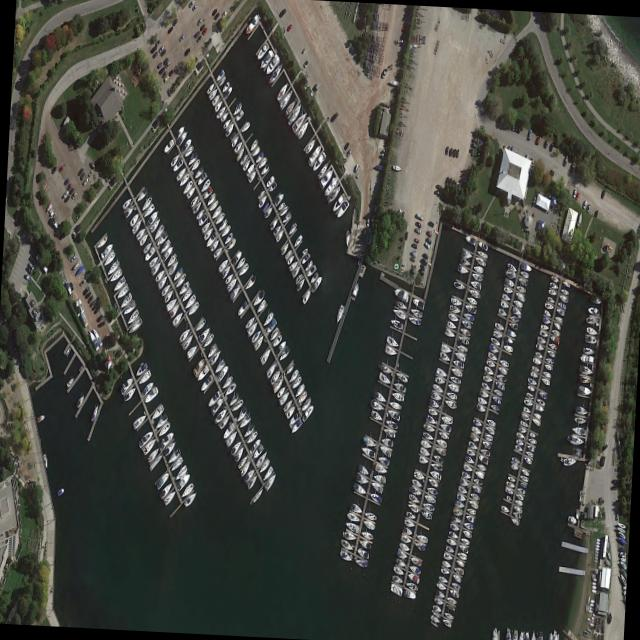ship: (291, 109, 308, 135), (137, 427, 155, 450), (331, 190, 348, 213), (245, 12, 261, 36), (265, 53, 281, 77), (287, 102, 303, 126), (311, 149, 327, 173), (279, 86, 294, 111), (259, 47, 275, 70), (323, 174, 339, 197), (318, 167, 334, 190), (127, 316, 144, 337), (142, 435, 158, 457), (269, 61, 284, 84), (275, 79, 290, 102), (307, 143, 322, 166), (207, 387, 223, 408), (315, 159, 330, 181), (145, 206, 160, 228), (144, 384, 160, 404), (176, 470, 191, 491), (200, 371, 215, 392), (337, 198, 351, 220), (296, 119, 310, 141), (180, 479, 195, 499), (159, 479, 174, 499), (256, 40, 271, 60), (222, 420, 237, 440), (112, 274, 127, 294), (119, 375, 134, 395), (106, 257, 121, 277), (225, 427, 239, 448), (156, 469, 170, 490), (210, 395, 224, 416), (193, 355, 207, 376), (216, 362, 230, 383), (301, 402, 315, 423), (259, 346, 273, 367), (334, 302, 346, 326), (327, 183, 342, 202), (115, 282, 130, 301), (126, 307, 141, 326), (99, 240, 114, 259), (147, 444, 161, 464), (196, 363, 210, 383), (252, 288, 266, 308), (103, 248, 117, 268), (163, 438, 178, 456), (122, 299, 137, 317), (137, 368, 152, 386), (149, 452, 163, 471), (183, 490, 197, 509), (175, 463, 189, 482), (167, 446, 181, 465), (160, 429, 174, 448), (303, 137, 317, 156), (187, 298, 201, 317), (213, 406, 227, 425), (290, 417, 304, 436), (155, 411, 169, 430), (141, 378, 155, 397), (119, 290, 133, 309), (123, 384, 137, 403), (132, 411, 146, 430), (92, 325, 104, 347), (264, 471, 277, 491), (255, 448, 268, 468), (182, 330, 195, 350), (278, 343, 291, 363), (265, 316, 278, 336), (395, 286, 411, 302), (389, 315, 405, 331), (352, 480, 368, 496), (373, 388, 388, 405), (89, 329, 100, 352), (240, 458, 252, 479), (170, 455, 184, 473), (157, 420, 171, 438), (283, 99, 297, 117), (213, 357, 227, 375), (151, 403, 165, 421), (184, 292, 198, 310), (221, 372, 235, 390), (218, 412, 232, 430), (274, 338, 288, 356), (247, 317, 259, 338), (135, 360, 149, 378), (310, 273, 323, 292), (252, 442, 265, 461), (249, 435, 262, 454), (246, 472, 259, 491), (198, 324, 211, 343), (287, 366, 300, 385), (135, 184, 148, 203), (389, 581, 404, 597), (236, 404, 248, 424), (253, 332, 265, 352), (386, 332, 400, 349), (242, 466, 256, 483), (163, 488, 177, 505), (143, 245, 157, 262), (203, 331, 216, 349), (209, 348, 222, 366), (231, 248, 244, 266), (174, 271, 187, 289), (178, 278, 191, 296), (181, 286, 194, 304), (205, 230, 218, 248), (239, 411, 252, 429), (243, 420, 256, 438), (262, 309, 275, 327), (156, 229, 169, 247), (233, 444, 245, 463), (237, 298, 249, 317), (169, 301, 181, 320), (272, 375, 284, 394), (265, 361, 277, 380), (153, 222, 165, 241), (162, 243, 174, 262), (392, 305, 407, 320), (346, 509, 361, 524), (567, 433, 583, 447), (340, 536, 354, 552), (185, 341, 199, 357), (229, 438, 242, 455), (217, 256, 230, 273), (245, 273, 258, 290), (171, 310, 184, 327), (178, 326, 191, 343), (225, 380, 238, 397), (271, 332, 284, 349), (180, 136, 193, 153), (211, 203, 224, 220), (214, 209, 227, 226), (110, 266, 123, 283), (350, 281, 361, 301), (429, 610, 441, 628), (295, 275, 307, 293), (157, 273, 169, 291), (168, 258, 180, 276), (278, 389, 290, 407), (200, 176, 212, 194), (177, 128, 189, 146), (141, 194, 153, 212), (131, 217, 143, 235), (412, 295, 426, 310), (362, 434, 377, 448), (357, 461, 371, 476), (256, 296, 267, 315), (361, 444, 377, 457), (165, 295, 178, 311), (134, 225, 147, 241), (143, 202, 156, 218), (262, 464, 274, 481), (259, 457, 271, 474), (206, 341, 218, 358), (226, 276, 238, 293), (235, 254, 247, 271), (154, 267, 166, 284), (294, 381, 306, 398), (250, 327, 262, 344), (191, 198, 203, 215), (182, 178, 194, 195), (187, 149, 199, 166), (224, 120, 236, 137), (149, 216, 161, 233), (150, 259, 162, 276), (160, 237, 172, 254), (128, 211, 140, 228), (221, 262, 232, 280), (173, 264, 184, 282), (270, 368, 281, 386), (410, 305, 424, 319), (387, 407, 401, 421), (370, 408, 384, 422), (385, 417, 399, 431), (378, 371, 392, 385), (450, 365, 464, 379), (468, 286, 482, 300), (339, 549, 353, 563), (424, 411, 437, 426), (370, 399, 385, 412), (355, 472, 370, 485), (345, 519, 360, 532), (342, 529, 357, 542), (178, 171, 191, 186), (579, 352, 595, 364), (246, 429, 258, 445), (253, 487, 265, 503), (236, 453, 248, 469), (257, 154, 269, 170), (195, 317, 207, 333), (223, 270, 235, 286), (238, 261, 250, 277), (160, 281, 172, 297), (288, 411, 300, 427), (291, 374, 303, 390), (185, 184, 197, 200), (196, 170, 208, 186), (176, 165, 188, 181), (163, 137, 175, 153), (197, 211, 209, 227), (138, 231, 150, 247), (148, 253, 160, 269), (90, 403, 100, 422), (269, 214, 280, 231), (229, 284, 240, 301), (167, 251, 178, 268), (286, 403, 297, 420), (301, 396, 312, 413), (269, 324, 280, 341), (206, 190, 217, 207), (174, 123, 185, 140), (203, 224, 214, 241), (124, 201, 135, 218), (587, 304, 601, 317), (459, 254, 472, 268), (392, 389, 405, 403), (394, 379, 407, 393), (396, 369, 409, 383), (444, 397, 458, 410), (445, 388, 459, 401), (363, 517, 376, 531), (350, 500, 363, 514), (370, 489, 383, 503), (371, 479, 384, 493), (380, 443, 393, 457), (374, 462, 388, 475), (409, 562, 422, 576), (232, 397, 245, 411), (579, 363, 594, 375), (577, 383, 592, 395), (302, 287, 312, 305), (121, 195, 133, 210), (97, 234, 109, 249), (263, 204, 274, 220), (258, 192, 269, 208), (282, 208, 293, 224), (287, 220, 298, 236), (297, 388, 308, 404), (229, 390, 240, 406), (244, 314, 255, 330), (203, 184, 214, 200), (169, 152, 180, 168), (223, 230, 234, 246), (218, 216, 229, 232), (74, 393, 85, 409), (235, 145, 245, 162), (575, 403, 588, 416), (435, 365, 448, 378), (384, 426, 397, 439), (447, 380, 460, 393), (455, 349, 468, 362), (465, 301, 478, 314), (357, 546, 370, 559), (408, 492, 421, 505), (424, 492, 437, 505), (407, 571, 420, 584), (408, 314, 422, 326), (379, 362, 393, 374), (384, 344, 398, 356), (505, 267, 517, 281), (475, 254, 487, 268), (364, 509, 378, 521), (377, 453, 391, 465), (430, 459, 444, 471), (240, 119, 252, 133), (358, 537, 373, 548), (274, 191, 285, 206), (163, 288, 174, 303), (212, 244, 223, 259), (209, 237, 220, 252), (189, 192, 200, 207), (184, 143, 195, 158), (173, 157, 184, 172), (215, 104, 226, 119), (208, 86, 219, 101), (221, 223, 232, 238), (142, 239, 153, 254), (247, 168, 257, 184), (242, 156, 252, 172), (249, 136, 259, 152), (275, 227, 285, 243), (283, 397, 293, 413), (285, 360, 295, 376), (291, 263, 301, 279), (191, 156, 201, 172), (432, 381, 444, 394), (443, 326, 456, 338), (447, 311, 460, 323), (453, 279, 466, 291), (389, 398, 402, 410), (439, 420, 452, 432), (483, 363, 495, 376), (449, 373, 462, 385), (461, 317, 473, 330), (361, 528, 374, 540), (355, 555, 368, 567), (398, 540, 411, 552), (392, 564, 405, 576), (406, 580, 419, 592), (429, 468, 442, 480), (428, 475, 440, 488), (465, 233, 477, 246), (306, 263, 317, 277), (265, 174, 276, 188), (260, 161, 271, 175), (279, 203, 290, 217), (293, 233, 304, 247), (298, 246, 309, 260), (195, 206, 206, 220), (209, 198, 220, 212), (245, 162, 255, 177), (255, 149, 265, 164), (233, 139, 243, 154), (276, 384, 286, 399), (280, 240, 290, 255), (233, 100, 243, 115), (206, 80, 216, 95), (201, 219, 211, 234), (422, 429, 434, 441), (428, 397, 440, 409), (439, 350, 451, 362), (440, 342, 452, 354), (446, 317, 458, 329), (451, 295, 463, 307), (504, 275, 516, 287), (457, 341, 469, 353), (459, 333, 471, 345), (460, 325, 472, 337), (463, 310, 475, 322), (466, 294, 478, 306), (472, 270, 484, 282), (411, 477, 423, 489), (401, 525, 413, 537), (395, 556, 407, 568), (419, 445, 431, 457), (471, 482, 483, 494), (478, 453, 490, 465), (436, 436, 448, 448), (435, 444, 447, 456), (433, 452, 445, 464), (421, 508, 433, 520), (80, 310, 89, 326), (441, 414, 454, 425), (470, 278, 483, 289), (420, 439, 433, 450), (410, 485, 423, 496), (407, 501, 420, 512), (403, 517, 416, 528), (426, 484, 439, 495), (414, 540, 427, 551), (410, 555, 423, 566), (272, 223, 283, 236), (287, 259, 298, 272), (221, 116, 232, 129), (585, 325, 599, 335), (579, 373, 593, 383), (422, 422, 436, 432), (403, 589, 417, 599), (252, 144, 262, 158), (239, 152, 249, 166), (304, 258, 314, 272), (227, 237, 237, 251), (301, 251, 311, 265), (294, 271, 304, 285), (194, 165, 204, 179), (235, 108, 245, 122), (211, 92, 221, 106), (221, 79, 231, 93), (215, 68, 225, 82), (50, 214, 59, 229), (231, 133, 240, 148), (505, 327, 517, 338), (513, 297, 524, 309), (515, 290, 526, 302), (518, 275, 529, 287), (591, 293, 603, 304), (430, 390, 442, 401), (434, 374, 446, 385), (396, 299, 408, 310), (475, 402, 487, 413), (507, 261, 518, 273), (453, 357, 465, 368), (567, 513, 578, 525), (392, 573, 404, 584), (468, 498, 479, 510), (462, 527, 473, 539), (500, 502, 511, 514), (417, 532, 429, 543), (449, 304, 462, 314), (460, 249, 473, 259), (374, 472, 387, 482), (382, 436, 395, 446), (423, 500, 436, 510), (268, 180, 278, 193), (219, 110, 229, 123), (65, 279, 73, 295), (563, 457, 577, 466), (573, 425, 587, 434), (310, 270, 319, 284), (224, 84, 233, 98), (214, 98, 223, 112), (527, 375, 538, 386), (495, 379, 506, 390), (499, 357, 510, 368), (492, 394, 503, 405), (485, 424, 496, 435), (490, 335, 501, 346), (485, 357, 496, 368), (494, 320, 505, 331), (501, 291, 512, 302), (471, 424, 482, 435), (480, 446, 491, 457), (470, 490, 481, 501), (460, 535, 471, 546), (459, 542, 470, 553), (457, 549, 468, 560), (455, 557, 466, 568), (449, 587, 460, 598), (442, 617, 453, 628), (467, 439, 478, 450), (464, 453, 475, 464), (457, 484, 468, 495), (478, 240, 489, 251), (525, 389, 535, 401), (496, 372, 508, 382), (503, 342, 515, 352), (512, 304, 522, 316), (585, 316, 600, 324), (487, 416, 497, 428), (457, 265, 469, 275), (438, 429, 450, 439), (481, 380, 491, 392), (488, 343, 500, 353), (476, 248, 488, 258), (473, 263, 485, 273), (413, 470, 425, 480), (405, 510, 417, 520), (435, 587, 445, 599), (445, 543, 455, 555), (286, 253, 296, 265), (78, 296, 85, 313), (400, 534, 413, 543), (262, 200, 271, 213), (582, 346, 596, 354), (584, 335, 598, 343), (573, 416, 587, 424), (549, 279, 559, 290), (532, 416, 542, 427), (498, 364, 508, 375), (504, 334, 514, 345), (516, 283, 527, 293), (536, 396, 547, 406), (538, 388, 548, 399), (542, 368, 552, 379), (548, 340, 559, 350), (550, 333, 560, 344), (559, 292, 569, 303), (477, 395, 488, 405), (479, 388, 490, 398), (482, 373, 493, 383), (488, 350, 498, 361), (492, 328, 503, 338), (499, 299, 510, 309), (472, 417, 483, 427), (469, 432, 480, 442), (397, 549, 408, 559), (482, 438, 492, 449), (477, 461, 488, 471), (475, 468, 486, 478), (473, 476, 484, 486), (465, 513, 476, 523), (464, 520, 475, 530), (523, 454, 533, 465), (513, 503, 523, 514), (510, 454, 521, 464), (505, 479, 516, 489), (454, 564, 465, 574), (452, 571, 462, 582), (451, 581, 462, 591), (436, 581, 447, 591), (466, 447, 477, 457), (462, 462, 473, 472), (459, 477, 470, 487), (454, 498, 465, 508), (448, 529, 459, 539), (446, 595, 458, 604), (257, 188, 266, 200), (66, 375, 75, 387), (345, 228, 351, 245), (577, 211, 583, 228), (75, 299, 81, 316), (523, 397, 533, 407), (521, 411, 531, 421), (547, 348, 557, 358), (551, 327, 561, 337), (554, 313, 564, 323), (556, 306, 566, 316), (557, 300, 567, 310), (560, 286, 570, 296), (498, 307, 508, 317), (515, 491, 525, 501), (514, 497, 524, 507), (446, 602, 456, 612), (444, 610, 454, 620), (461, 469, 471, 479), (538, 328, 549, 337), (521, 262, 532, 271), (619, 559, 628, 570), (428, 407, 439, 416), (56, 485, 65, 496), (521, 466, 530, 477), (438, 574, 449, 583), (277, 200, 286, 211), (284, 248, 293, 259), (76, 264, 85, 275), (73, 259, 82, 270), (620, 572, 627, 586), (43, 452, 49, 468), (442, 552, 454, 560), (512, 627, 519, 640), (219, 74, 226, 87), (535, 349, 544, 359), (537, 335, 547, 344), (547, 294, 556, 304), (548, 287, 558, 296), (550, 274, 560, 283), (523, 404, 532, 414), (491, 402, 501, 411), (510, 313, 519, 323), (494, 387, 504, 396), (509, 321, 519, 330), (618, 534, 627, 544), (616, 524, 626, 533), (541, 376, 551, 385), (553, 320, 562, 330), (467, 505, 477, 514), (511, 516, 520, 526), (442, 559, 452, 568), (392, 163, 402, 172), (532, 357, 543, 365), (544, 301, 555, 309), (503, 285, 514, 293), (431, 604, 442, 612), (456, 493, 467, 501), (450, 523, 461, 531), (446, 537, 457, 545), (229, 129, 237, 140), (506, 626, 512, 640), (65, 345, 72, 357), (618, 520, 627, 529), (544, 362, 553, 371), (562, 279, 571, 288), (485, 432, 494, 441), (527, 443, 536, 452), (519, 480, 528, 489), (528, 436, 538, 444), (520, 269, 530, 277), (513, 510, 523, 518), (517, 485, 527, 493), (510, 462, 520, 470), (507, 474, 517, 482), (505, 486, 515, 494), (434, 597, 444, 605), (440, 567, 450, 575), (453, 508, 463, 516), (451, 515, 461, 523), (552, 627, 558, 640), (418, 456, 429, 463), (46, 201, 53, 212), (527, 384, 536, 392), (544, 308, 552, 317), (520, 419, 529, 427), (533, 410, 542, 418), (535, 404, 544, 412), (618, 530, 627, 538), (545, 355, 554, 363), (575, 506, 581, 518), (36, 414, 45, 422), (526, 449, 535, 457), (520, 473, 529, 481), (515, 443, 523, 452), (535, 344, 545, 351), (493, 626, 498, 640), (540, 323, 549, 330), (530, 371, 539, 378), (531, 365, 540, 372), (516, 431, 525, 438), (518, 426, 527, 433), (515, 438, 524, 445), (390, 78, 399, 85), (542, 317, 552, 323), (538, 630, 544, 640), (529, 431, 537, 438), (605, 558, 612, 566), (506, 493, 513, 501), (519, 629, 524, 640), (531, 629, 536, 640), (607, 549, 612, 559), (525, 630, 530, 640), (620, 549, 627, 556), (621, 555, 627, 562), (579, 489, 582, 502), (49, 206, 54, 213), (50, 210, 55, 216), (587, 626, 592, 632), (587, 603, 590, 612), (589, 608, 594, 613), (589, 606, 595, 610), (587, 596, 590, 604), (607, 541, 610, 548), (596, 537, 601, 541), (590, 622, 595, 626), (586, 603, 588, 613), (592, 588, 597, 592), (594, 555, 599, 559), (594, 552, 599, 556), (590, 602, 594, 606), (596, 540, 600, 544), (596, 543, 600, 547), (590, 599, 595, 602), (592, 585, 597, 588), (592, 581, 597, 584), (593, 577, 598, 580), (594, 559, 599, 562), (595, 547, 600, 550), (595, 550, 599, 553)
small-vehicle: (29, 253, 37, 266), (330, 111, 338, 122), (381, 66, 388, 78), (82, 285, 90, 295), (25, 265, 33, 275), (279, 7, 287, 17), (563, 153, 569, 166), (84, 290, 92, 299), (425, 235, 433, 244), (64, 194, 71, 204), (87, 294, 94, 304), (28, 260, 35, 270), (184, 46, 191, 56), (80, 170, 87, 180), (417, 211, 424, 221), (194, 29, 201, 39), (426, 228, 433, 238), (424, 240, 431, 250), (570, 160, 576, 171), (70, 253, 77, 262), (172, 17, 179, 26), (167, 25, 174, 34), (155, 37, 162, 46), (63, 189, 69, 199), (97, 313, 103, 323), (78, 166, 84, 176), (153, 48, 159, 58), (549, 142, 555, 152), (344, 140, 350, 150), (346, 147, 352, 157), (419, 266, 425, 276), (428, 219, 435, 227), (421, 257, 428, 265), (412, 241, 419, 249), (416, 220, 423, 228), (544, 138, 549, 149), (524, 153, 529, 164), (573, 187, 578, 198), (601, 188, 606, 199), (71, 190, 77, 199), (94, 305, 100, 314), (67, 181, 73, 190), (212, 7, 218, 16), (168, 67, 174, 76), (160, 47, 166, 56), (163, 56, 169, 65), (159, 65, 165, 74), (83, 176, 89, 185), (52, 165, 58, 174), (214, 11, 220, 20), (304, 59, 310, 68), (202, 26, 208, 35), (200, 22, 206, 31), (197, 16, 203, 25), (165, 59, 171, 68), (420, 262, 426, 271), (446, 175, 450, 188), (583, 199, 588, 209), (530, 156, 535, 166), (98, 320, 105, 327), (157, 61, 164, 68), (436, 183, 443, 190), (411, 250, 418, 257), (92, 302, 98, 310), (80, 278, 86, 286), (24, 273, 30, 281), (64, 177, 70, 185), (528, 127, 532, 139), (515, 119, 519, 131), (452, 179, 456, 191), (449, 177, 453, 189), (287, 23, 293, 31), (189, 0, 195, 8), (159, 44, 165, 52), (423, 251, 429, 259), (410, 254, 416, 262), (193, 2, 198, 11), (180, 32, 185, 41), (445, 145, 450, 154), (518, 120, 522, 131), (587, 202, 591, 213), (512, 120, 516, 131), (455, 179, 459, 190), (90, 299, 96, 306), (401, 37, 407, 44), (414, 236, 420, 243), (69, 186, 74, 194), (222, 9, 227, 17), (151, 45, 156, 53), (59, 164, 64, 172), (197, 34, 202, 42), (456, 147, 460, 157), (405, 230, 409, 240), (453, 147, 457, 157), (511, 145, 515, 154), (576, 191, 580, 200), (449, 147, 453, 156), (416, 227, 422, 233), (162, 70, 167, 77), (90, 161, 95, 168), (594, 209, 599, 216), (165, 74, 170, 81), (402, 25, 409, 30), (436, 188, 441, 195), (612, 484, 618, 489), (537, 134, 540, 144), (394, 38, 400, 43), (367, 217, 370, 226), (508, 144, 511, 152), (612, 479, 617, 482)
